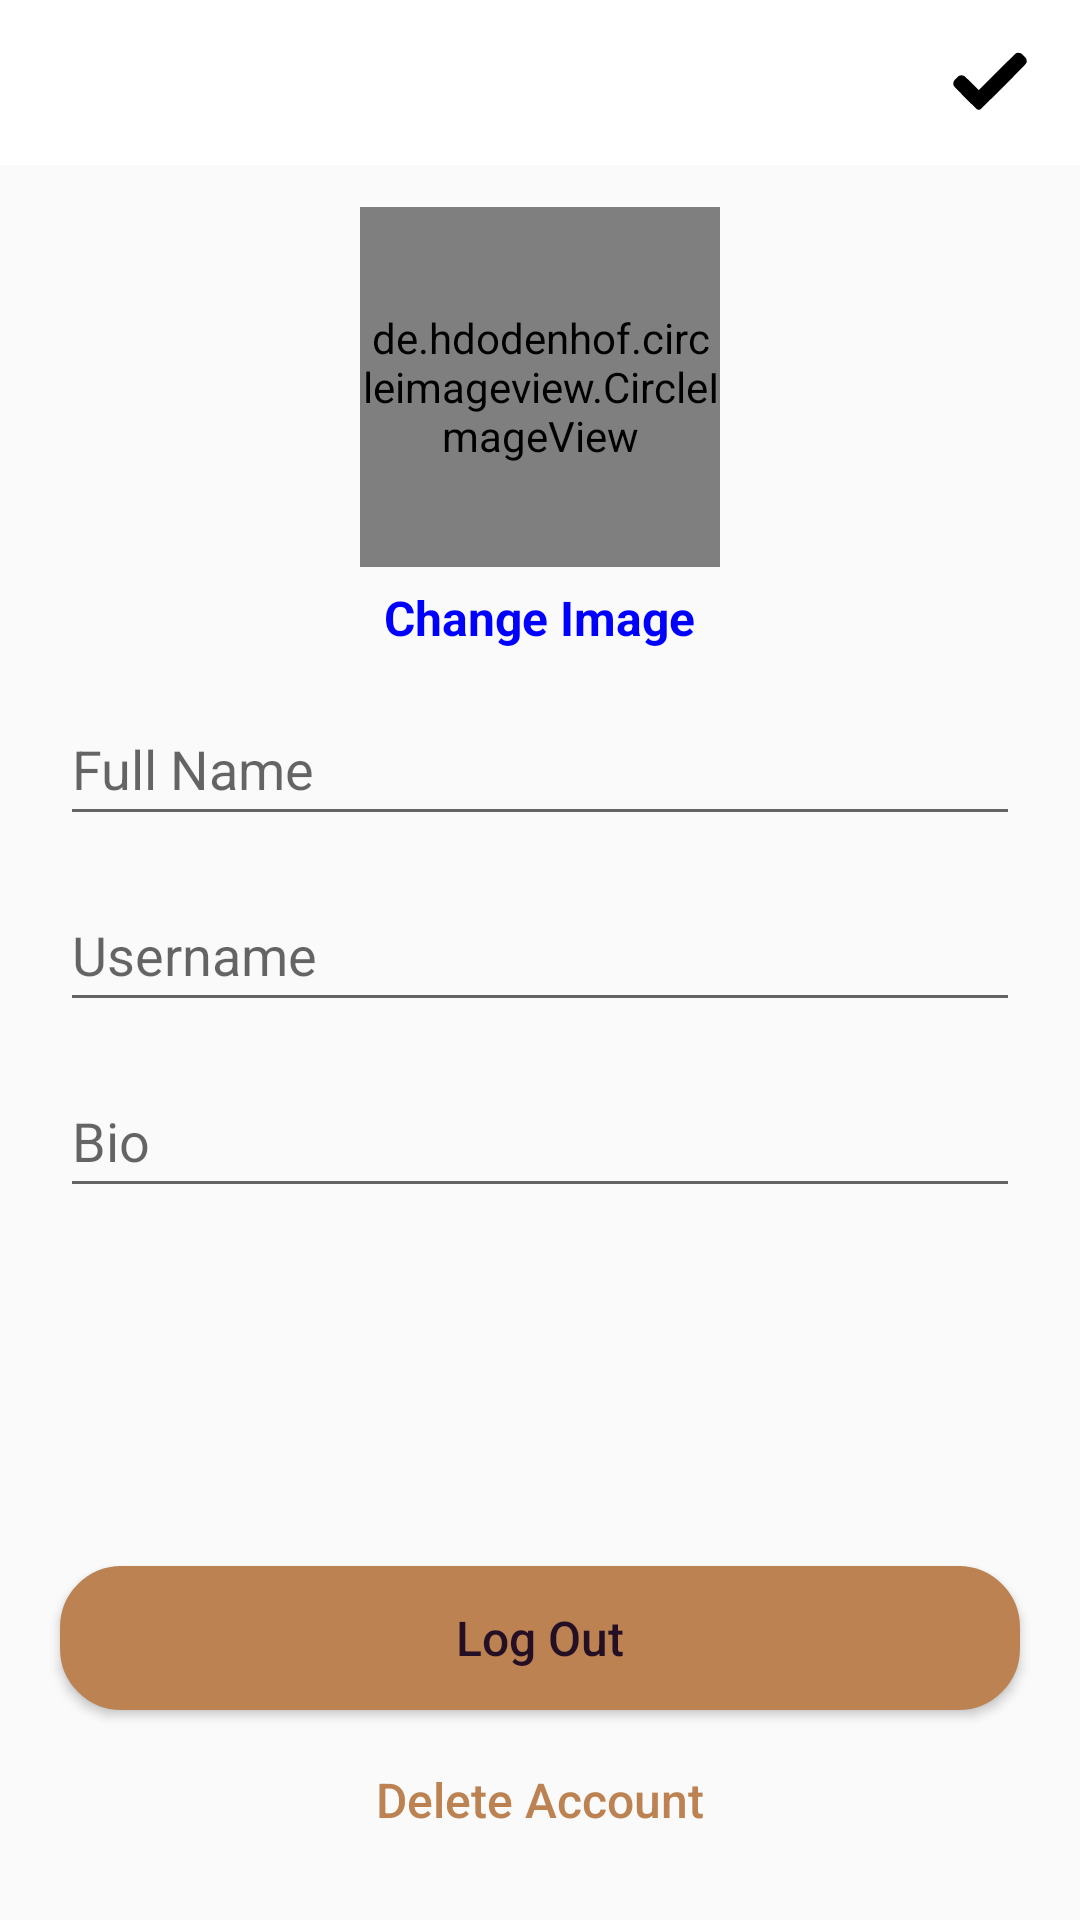

Screen size 1080px×1920px. Icon name, then its center in pixels as (x=x, y=y):
save edited: (x=990, y=81)
